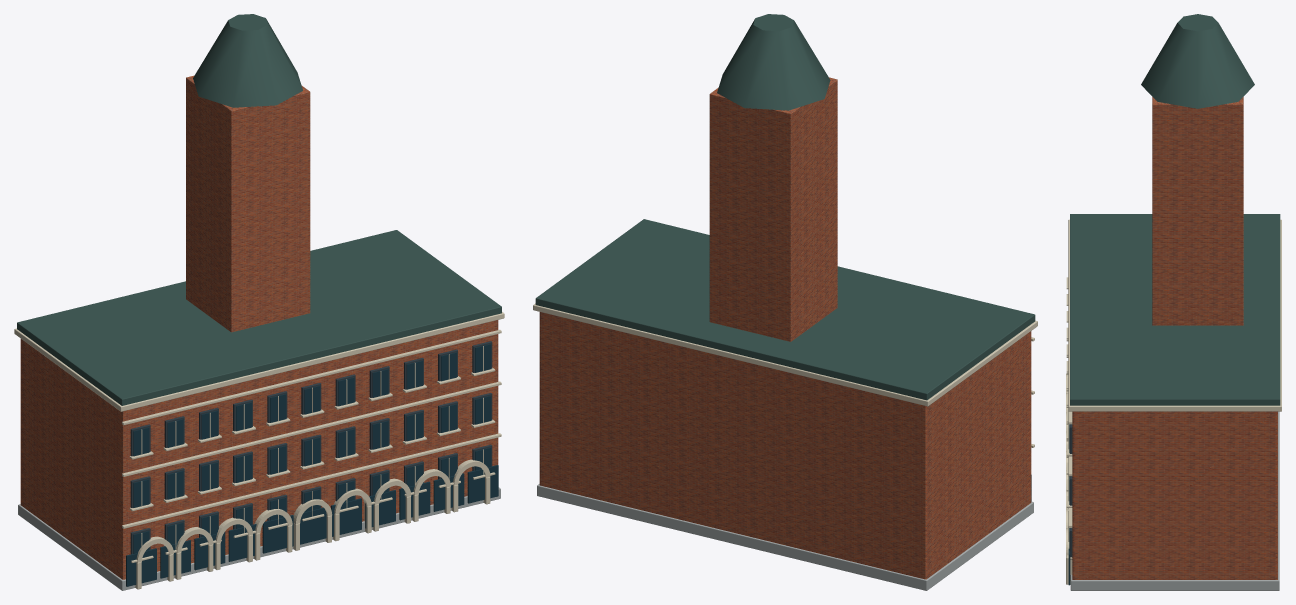
The model's file is red-townhall.glb.
3 views of the same model, side by side, from view 1: azimuth 30°, elevation 25°; view 2: azimuth 150°, elevation 25°; view 3: azimuth 270°, elevation 25° (orthographic). The views are drawn at different scales.
Visible parts, largest first — view 1: DC_Mesh_DC_Brick, DC_Mesh_DC_Roof, DC_Mesh_DC_BlueGlass, DC_Mesh_DC_Ivory, DC_Mesh_DC_Steel, DC_Mesh_DC_Concrete; view 2: DC_Mesh_DC_Brick, DC_Mesh_DC_Roof, DC_Mesh_DC_Concrete, DC_Mesh_DC_Ivory; view 3: DC_Mesh_DC_Brick, DC_Mesh_DC_Roof, DC_Mesh_DC_Ivory, DC_Mesh_DC_Concrete.
Boxes of the visible parts, x1=… form: DC_Mesh_DC_Brick: x1=20, y1=75, x2=498, y2=579; DC_Mesh_DC_Roof: x1=17, y1=14, x2=501, y2=405; DC_Mesh_DC_BlueGlass: x1=126, y1=344, x2=498, y2=586; DC_Mesh_DC_Ivory: x1=14, y1=312, x2=504, y2=589; DC_Mesh_DC_Steel: x1=130, y1=341, x2=492, y2=554; DC_Mesh_DC_Concrete: x1=18, y1=487, x2=500, y2=590; DC_Mesh_DC_Brick: x1=539, y1=77, x2=1031, y2=579; DC_Mesh_DC_Roof: x1=535, y1=14, x2=1035, y2=400; DC_Mesh_DC_Concrete: x1=537, y1=484, x2=1033, y2=590; DC_Mesh_DC_Ivory: x1=533, y1=303, x2=1037, y2=447; DC_Mesh_DC_Brick: x1=1072, y1=97, x2=1277, y2=579; DC_Mesh_DC_Roof: x1=1070, y1=14, x2=1280, y2=405; DC_Mesh_DC_Ivory: x1=1066, y1=219, x2=1281, y2=584; DC_Mesh_DC_Concrete: x1=1070, y1=411, x2=1279, y2=590.
Bounding box in the file's own units: 19.4 × 23 × 9.45.
Materials: 6 (1 with a texture image).
